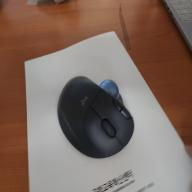mouse: (56, 70, 136, 162)
